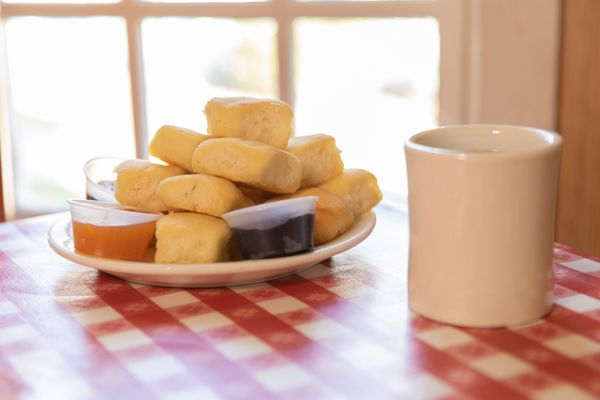pizza: (404, 121, 565, 329)
sushi: (68, 197, 163, 260)
